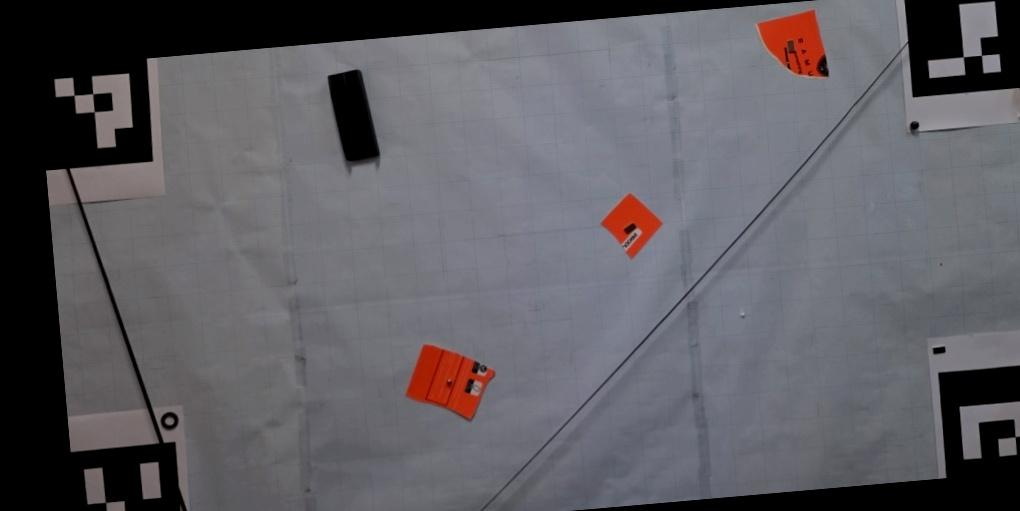obstacle: (406, 344, 497, 424), (753, 8, 831, 80), (326, 69, 381, 165), (597, 193, 664, 261)
